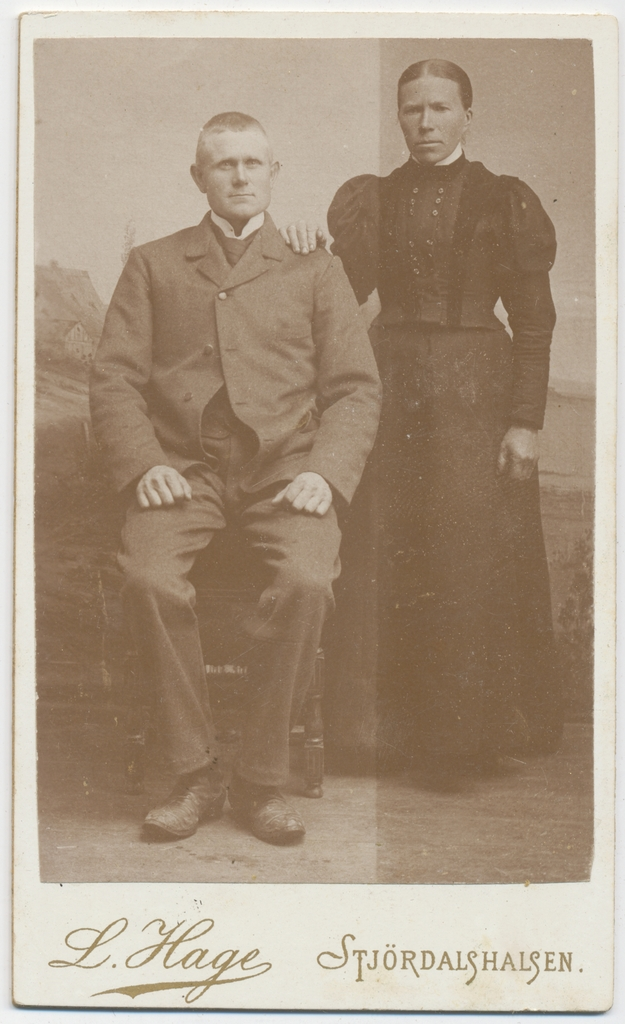Human_hand: (124, 461, 194, 518), (492, 424, 541, 494), (269, 474, 335, 519), (276, 216, 329, 258)
